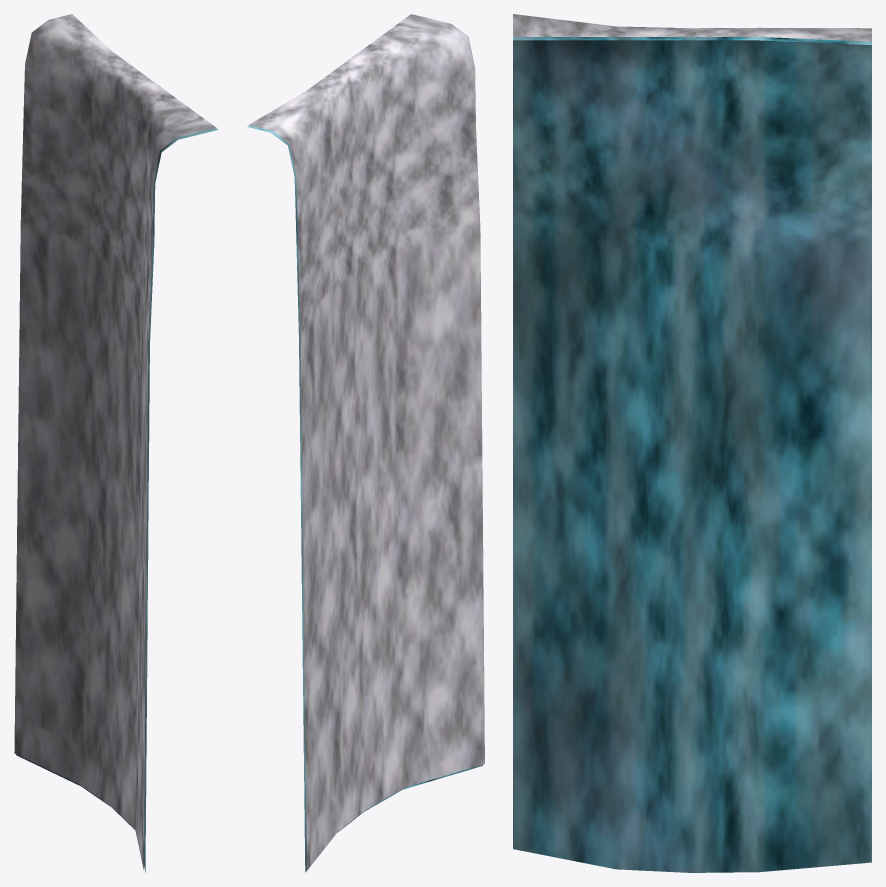
The model's file is OVERHILL_A_01_LINE94.fbx.
3 views of the same model, side by side, from view 1: azimuth 30°, elevation 25°; view 2: azimuth 150°, elevation 25°; view 3: azimuth 270°, elevation 25° (orthographic). The views are drawn at different scales.
Visible parts, largest first — view 1: OVERHILL_A_01_LINE94; view 2: OVERHILL_A_01_LINE94; view 3: OVERHILL_A_01_LINE94.
Boxes of the visible parts, left/top/right/bottom form: OVERHILL_A_01_LINE94: left=14, top=14, right=217, bottom=872; OVERHILL_A_01_LINE94: left=247, top=14, right=484, bottom=872; OVERHILL_A_01_LINE94: left=513, top=14, right=871, bottom=872.
Size of the model in its own units: 13476 by 113071 by 43094.
Materials: 2 (2 with a texture image).
